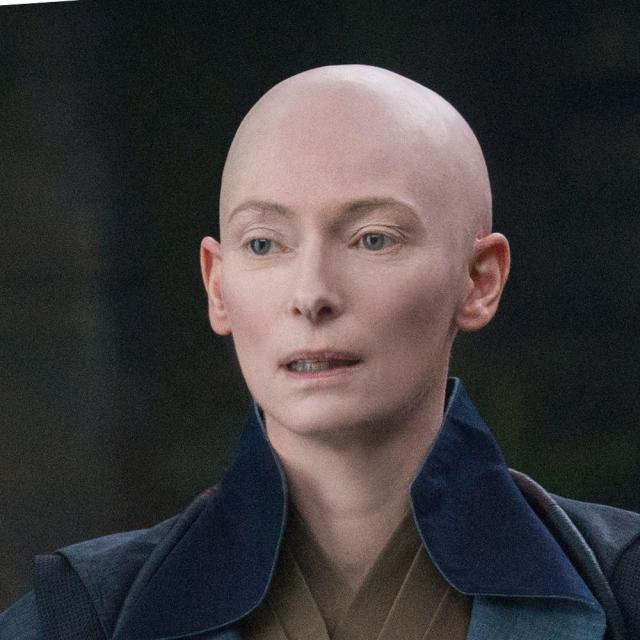no_helmet: (196, 51, 507, 266)
